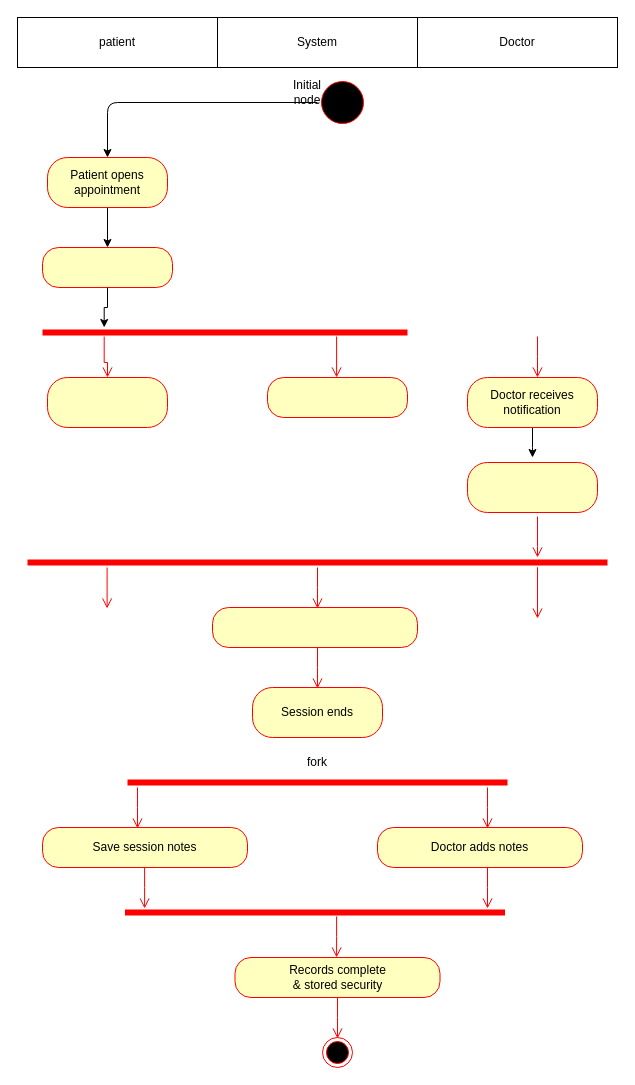
This 635x1085 diagram has some shape labels left out. The shapes that lost their labels are listed below. From the top down, each one's centre as x and y in pixels, then its label:
At (107,267): "Join video session".
At (107,402): "Waiting in video room".
At (337,397): "Create video session & notify doctor".
At (532,487): "Doctor joins".
At (315,627): "Consultation happen".
